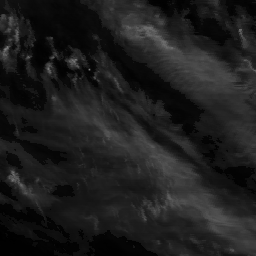Target: (87, 67, 92, 72)
